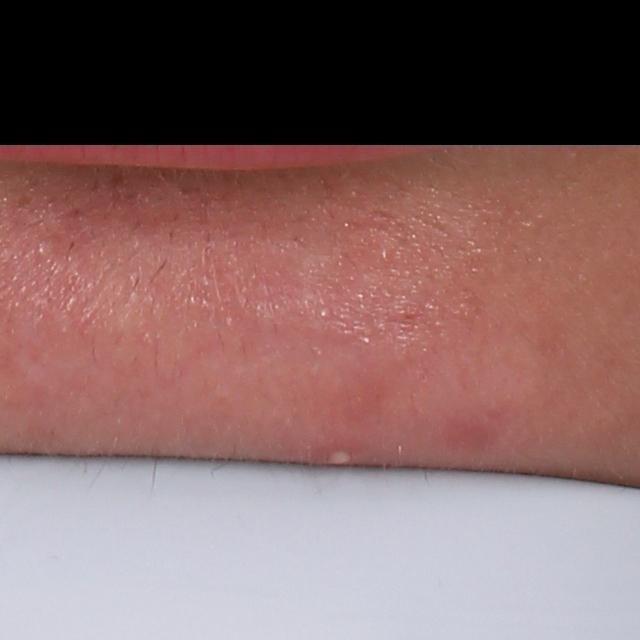pustule: (317, 439, 357, 468)
